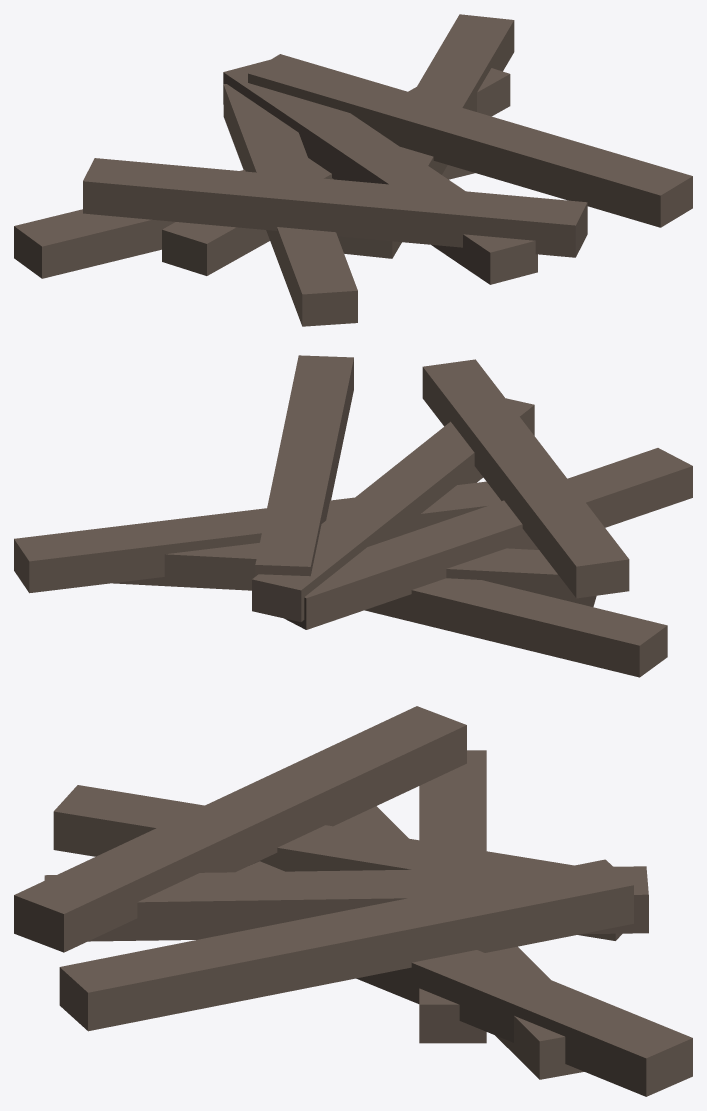
Rendered from rubble_broken_beams.glb.
3 renders of one model, top to bottom at view 1: azimuth 30°, elevation 25°; view 2: azimuth 150°, elevation 25°; view 3: azimuth 270°, elevation 25°, orthographic. The views are drawn at different scales.
Visible parts, largest first — view 1: rubble_broken_beams; view 2: rubble_broken_beams; view 3: rubble_broken_beams.
Part boxes in pixels (left/top/right/bottom): rubble_broken_beams: left=14, top=14, right=692, bottom=326; rubble_broken_beams: left=14, top=355, right=692, bottom=677; rubble_broken_beams: left=14, top=706, right=692, bottom=1096.
Bounding box in the file's own units: 2.21 × 0.33 × 1.92.
